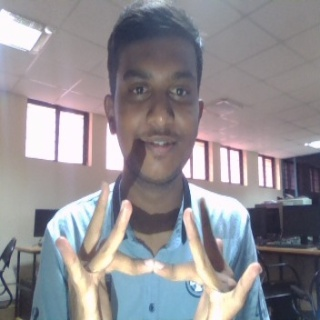Internet: (55, 178, 264, 320)
